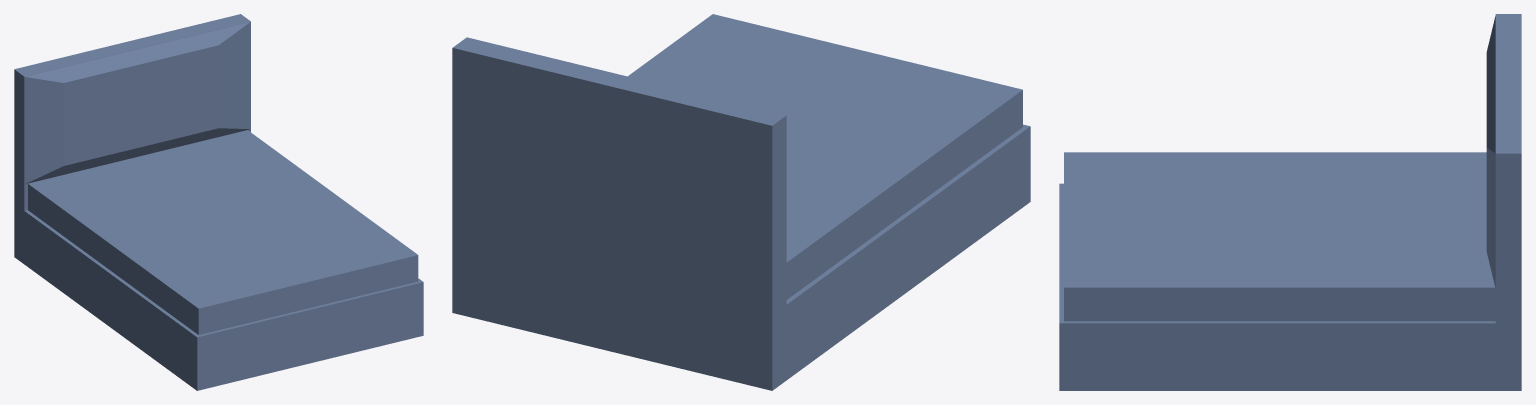
The model's file is Bed_medium_1422_1988_1126.fbx.
The picture shows the model from 3 angles, left to right: view 1: azimuth 30°, elevation 25°; view 2: azimuth 150°, elevation 25°; view 3: azimuth 270°, elevation 25°; orthographic projection. The views are drawn at different scales.
Parts seen in each view (by area): view 1: Bed_midium_1422_1988_1126; view 2: Bed_midium_1422_1988_1126; view 3: Bed_midium_1422_1988_1126.
Boxes of the visible parts, left/top/right/bottom form: Bed_midium_1422_1988_1126: left=14, top=14, right=423, bottom=390; Bed_midium_1422_1988_1126: left=452, top=14, right=1030, bottom=390; Bed_midium_1422_1988_1126: left=1059, top=14, right=1521, bottom=390.
Bounding box in the file's own units: 142 × 113 × 199.
